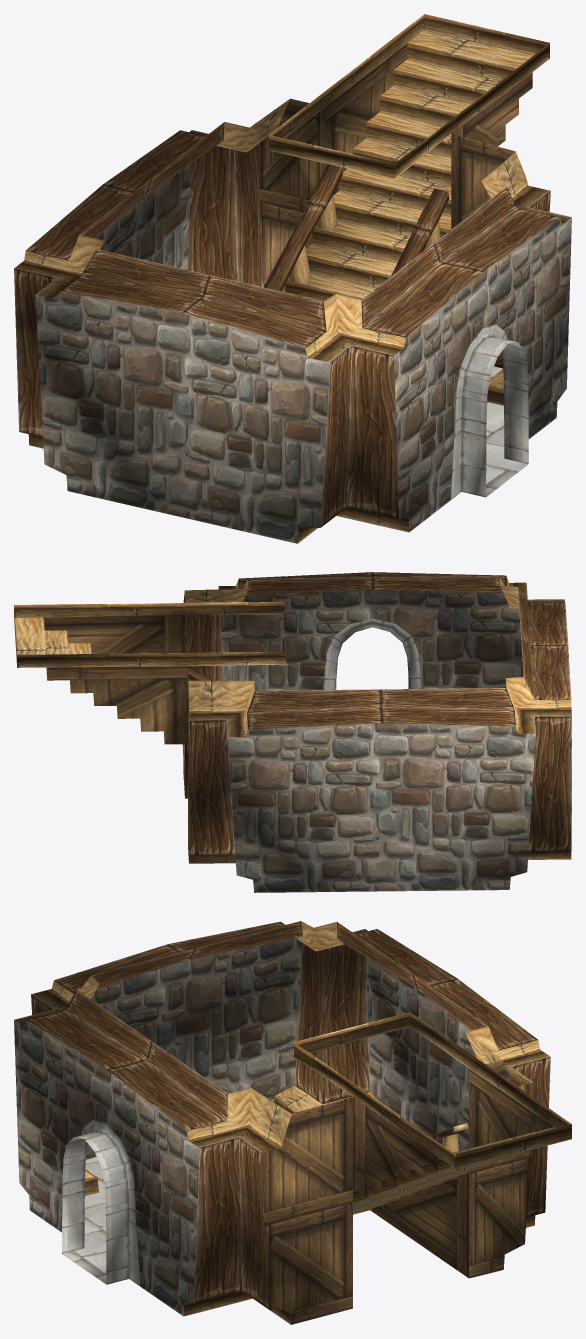
Rendered from stormwind_239.fbx.
The picture shows the model from 3 angles, top to bottom: view 1: azimuth 30°, elevation 25°; view 2: azimuth 150°, elevation 25°; view 3: azimuth 270°, elevation 25°; orthographic projection. The views are drawn at different scales.
Visible parts, largest first — view 1: stormwind_239_53, stormwind_239_38, stormwind_239_56, stormwind_239_45, stormwind_239_52, stormwind_239_54; view 2: stormwind_239_38, stormwind_239_53, stormwind_239_56, stormwind_239_45; view 3: stormwind_239_53, stormwind_239_38, stormwind_239_56, stormwind_239_45, stormwind_239_52.
Boxes of the visible parts, x1=… form: stormwind_239_53: x1=14, y1=14, x2=571, y2=543; stormwind_239_38: x1=35, y1=163, x2=571, y2=543; stormwind_239_56: x1=257, y1=43, x2=532, y2=368; stormwind_239_45: x1=450, y1=324, x2=528, y2=499; stormwind_239_52: x1=486, y1=366, x2=528, y2=496; stormwind_239_54: x1=289, y1=194, x2=440, y2=284; stormwind_239_38: x1=220, y1=589, x2=535, y2=892; stormwind_239_53: x1=14, y1=572, x2=571, y2=863; stormwind_239_56: x1=44, y1=590, x2=189, y2=860; stormwind_239_45: x1=322, y1=618, x2=422, y2=689; stormwind_239_53: x1=14, y1=921, x2=571, y2=1324; stormwind_239_38: x1=14, y1=938, x2=476, y2=1316; stormwind_239_56: x1=261, y1=1060, x2=553, y2=1324; stormwind_239_45: x1=62, y1=1120, x2=140, y2=1286; stormwind_239_52: x1=62, y1=1157, x2=106, y2=1284.
Size of the model in its own units: 20.15 by 7.67 by 17.19.
